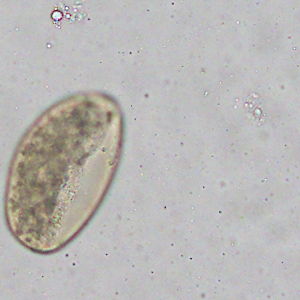Fasciola_hepatica_egg: (4, 89, 124, 255)
